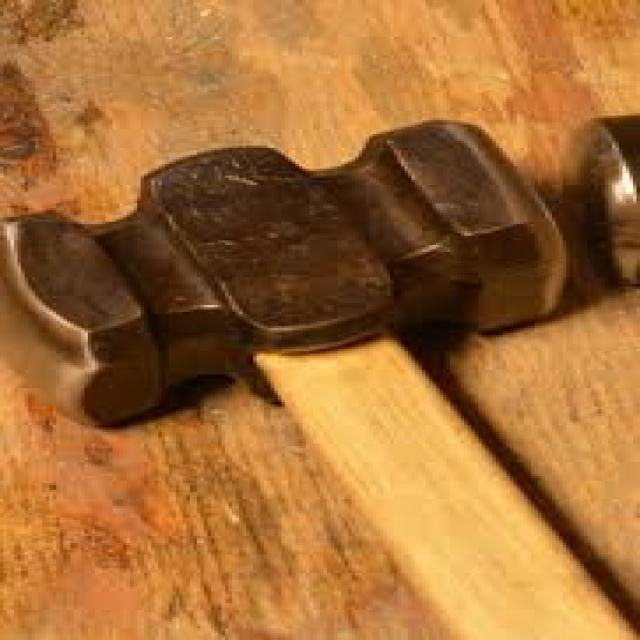hammer: (0, 85, 622, 639)
